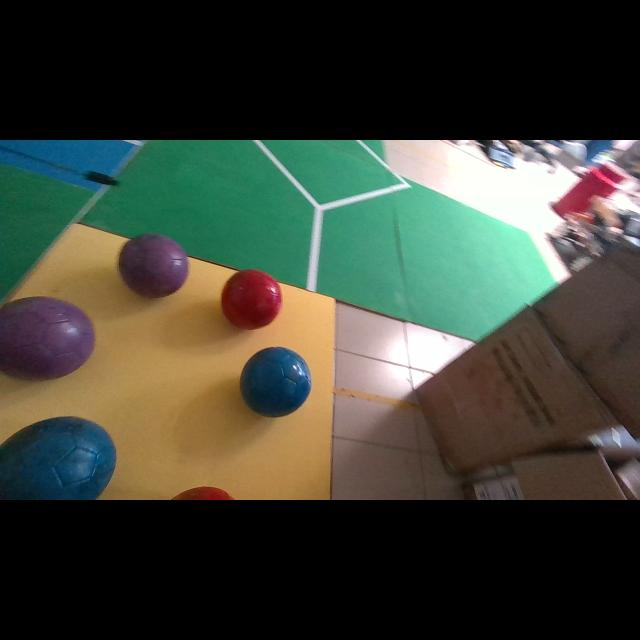B: (0, 416, 116, 499), (240, 348, 311, 418)
P: (0, 296, 95, 380), (119, 234, 188, 297)
R: (221, 270, 282, 329), (171, 486, 234, 499)
